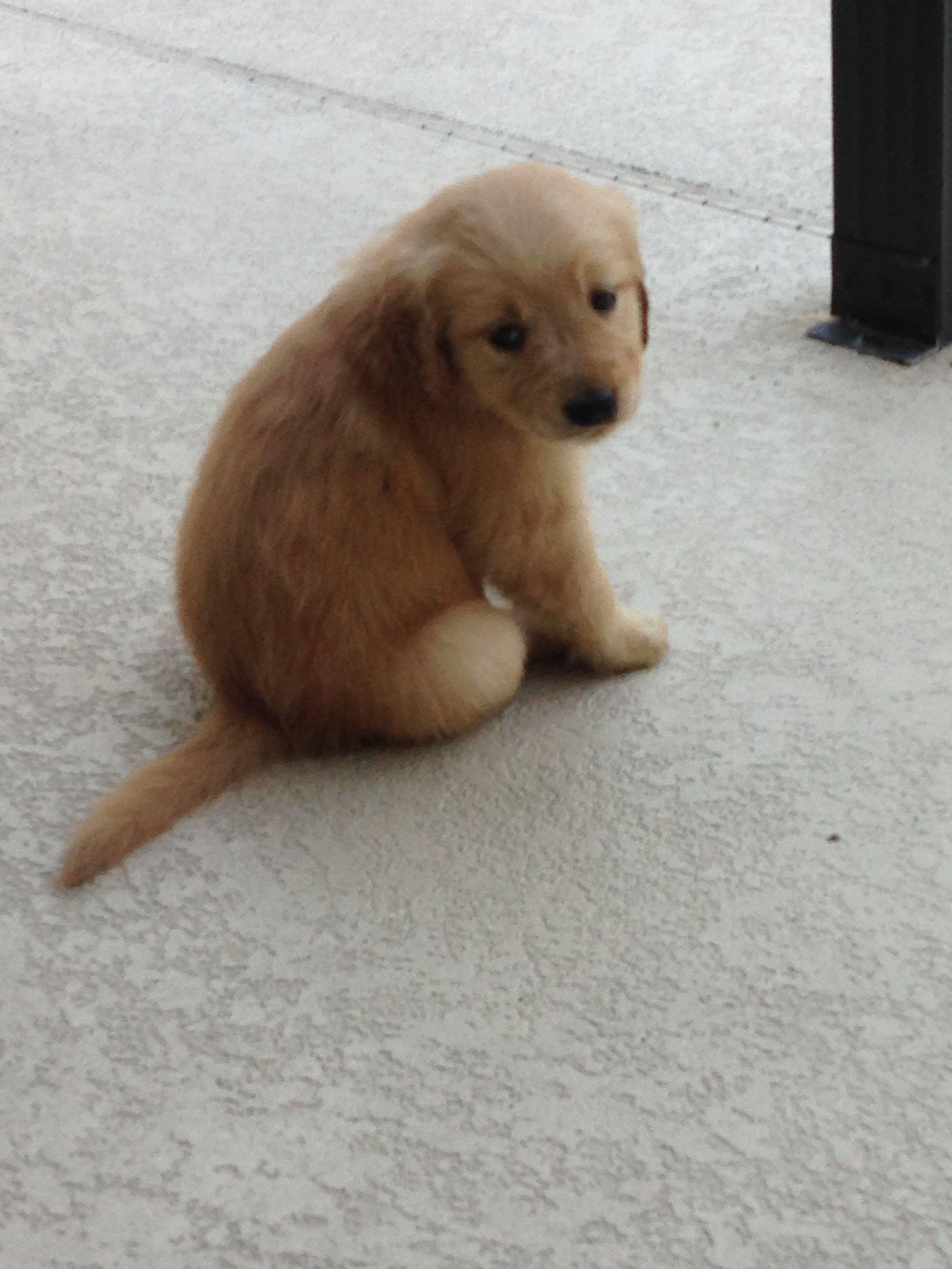puppy-dog: (49, 156, 672, 899)
